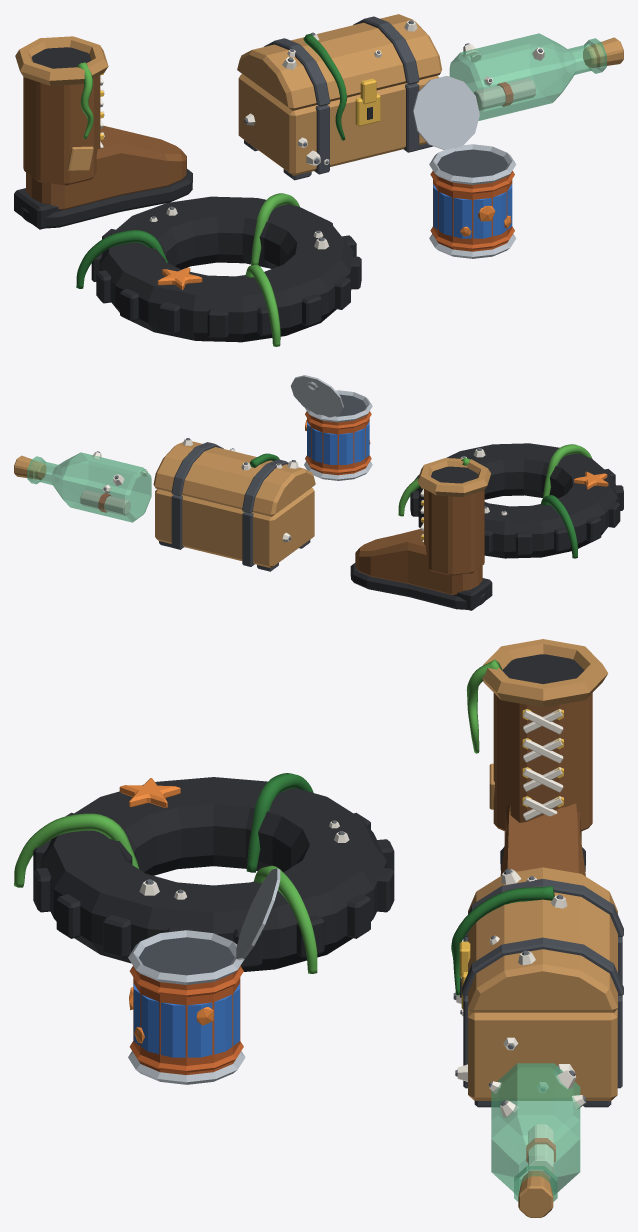
The model's file is junk-catches-set.glb.
3 views of the same model, one above another, from view 1: azimuth 30°, elevation 25°; view 2: azimuth 150°, elevation 25°; view 3: azimuth 270°, elevation 25° (orthographic). The views are drawn at different scales.
Visible parts, largest first — view 1: Tyre_Body, Chest_Lid, Chest_Base, Bottle_Glass, Boot_Shaft, Boot_Upper, Tyre_Treads, Lid, TinCan_Body, Tyre_Seaweed, TinCan_Label, Boot_Sole (+18 smaller); view 2: Tyre_Body, Chest_Base, Chest_Lid, Bottle_Glass, Boot_Shaft, Boot_Upper, Tyre_Treads, TinCan_Label, Boot_Cuff, Boot_Sole, TinCan_Body, Tyre_Seaweed (+12 smaller); view 3: Tyre_Body, Chest_Lid, Chest_Base, Bottle_Glass, Boot_Shaft, Tyre_Treads, TinCan_Body, Tyre_Seaweed, TinCan_Label, Boot_Cuff, Boot_Upper, Chest_LidBand_1 (+14 smaller).
Part boxes in pixels (bbox=[...]): Tyre_Body: bbox=[99, 196, 353, 342]; Chest_Lid: bbox=[237, 14, 441, 110]; Chest_Base: bbox=[238, 74, 438, 175]; Bottle_Glass: bbox=[449, 33, 606, 120]; Boot_Shaft: bbox=[23, 75, 100, 185]; Boot_Upper: bbox=[26, 126, 186, 209]; Tyre_Treads: bbox=[91, 220, 361, 338]; Lid: bbox=[412, 76, 479, 149]; TinCan_Body: bbox=[433, 149, 512, 251]; Tyre_Seaweed: bbox=[76, 193, 299, 346]; TinCan_Label: bbox=[433, 184, 512, 238]; Boot_Sole: bbox=[20, 169, 192, 228]; Tyre_Body: bbox=[416, 443, 617, 558]; Chest_Base: bbox=[155, 487, 314, 567]; Chest_Lid: bbox=[153, 441, 315, 516]; Bottle_Glass: bbox=[27, 452, 151, 522]; Boot_Shaft: bbox=[424, 489, 484, 575]; Boot_Upper: bbox=[355, 529, 482, 595]; Tyre_Treads: bbox=[410, 469, 623, 555]; TinCan_Label: bbox=[307, 421, 369, 464]; Boot_Cuff: bbox=[417, 458, 490, 496]; Boot_Sole: bbox=[350, 563, 486, 609]; TinCan_Body: bbox=[307, 394, 369, 475]; Tyre_Seaweed: bbox=[398, 444, 592, 558]; Tyre_Body: bbox=[40, 777, 386, 971]; Chest_Lid: bbox=[468, 867, 617, 1012]; Chest_Base: bbox=[468, 1008, 617, 1100]; Bottle_Glass: bbox=[491, 1063, 580, 1201]; Boot_Shaft: bbox=[493, 693, 592, 831]; Tyre_Treads: bbox=[33, 812, 394, 967]; TinCan_Body: bbox=[133, 937, 240, 1075]; Tyre_Seaweed: bbox=[14, 773, 317, 973]; TinCan_Label: bbox=[133, 983, 239, 1057]; Boot_Cuff: bbox=[482, 639, 608, 707]; Boot_Upper: bbox=[500, 803, 585, 876]; Chest_LidBand_1: bbox=[462, 937, 623, 995].
Size of the model in its own units: 9.13 by 2.27 by 5.7.
